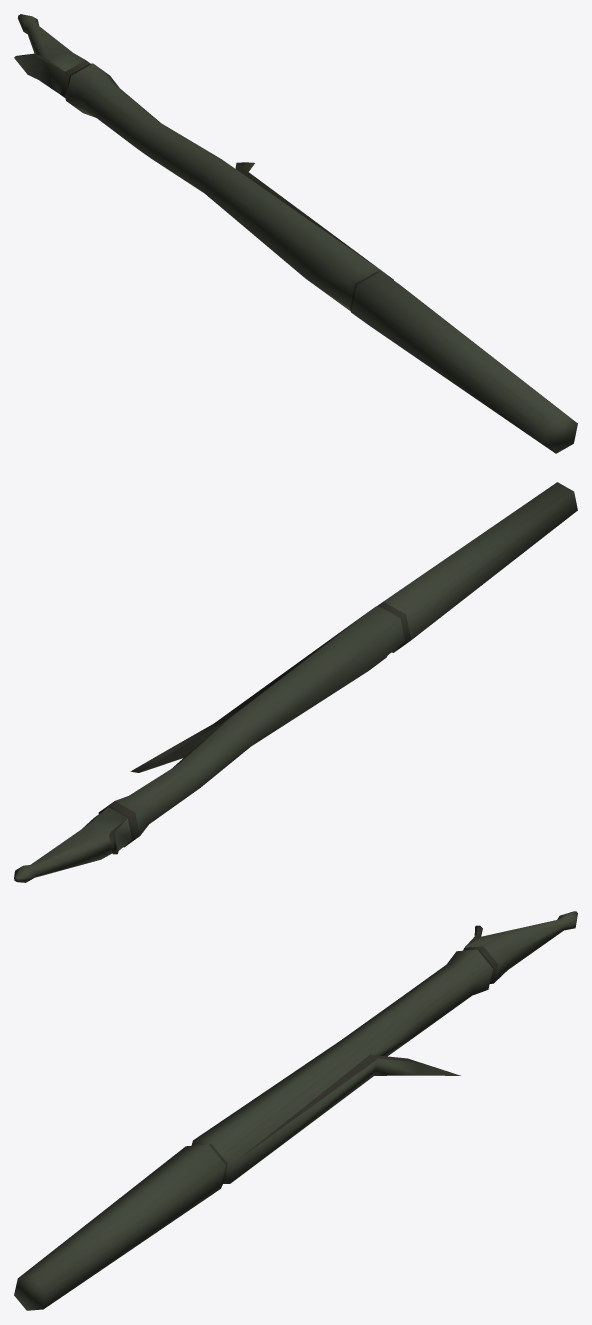
File: Phase 4 Bamboo 3.fbx
3 renders of one model, top to bottom at view 1: azimuth 30°, elevation 25°; view 2: azimuth 150°, elevation 25°; view 3: azimuth 330°, elevation 25°, orthographic. The views are drawn at different scales.
Visible parts, largest first — view 1: Phase 4 Bamboo 3; view 2: Phase 4 Bamboo 3; view 3: Phase 4 Bamboo 3.
Boxes of the visible parts, x1,y1,x2,y2 form: Phase 4 Bamboo 3: (14,14,577,453); Phase 4 Bamboo 3: (14,482,577,882); Phase 4 Bamboo 3: (14,911,577,1310).
Size of the model in its own units: 76.94 by 35.58 by 659.
